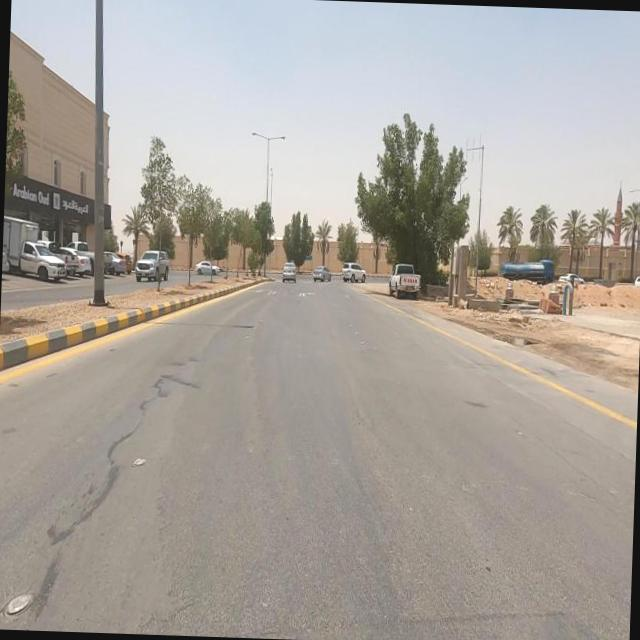debris: (477, 272, 543, 349), (520, 259, 575, 341)
